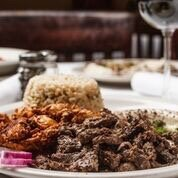sushi: (1, 73, 178, 173), (23, 74, 102, 109)
